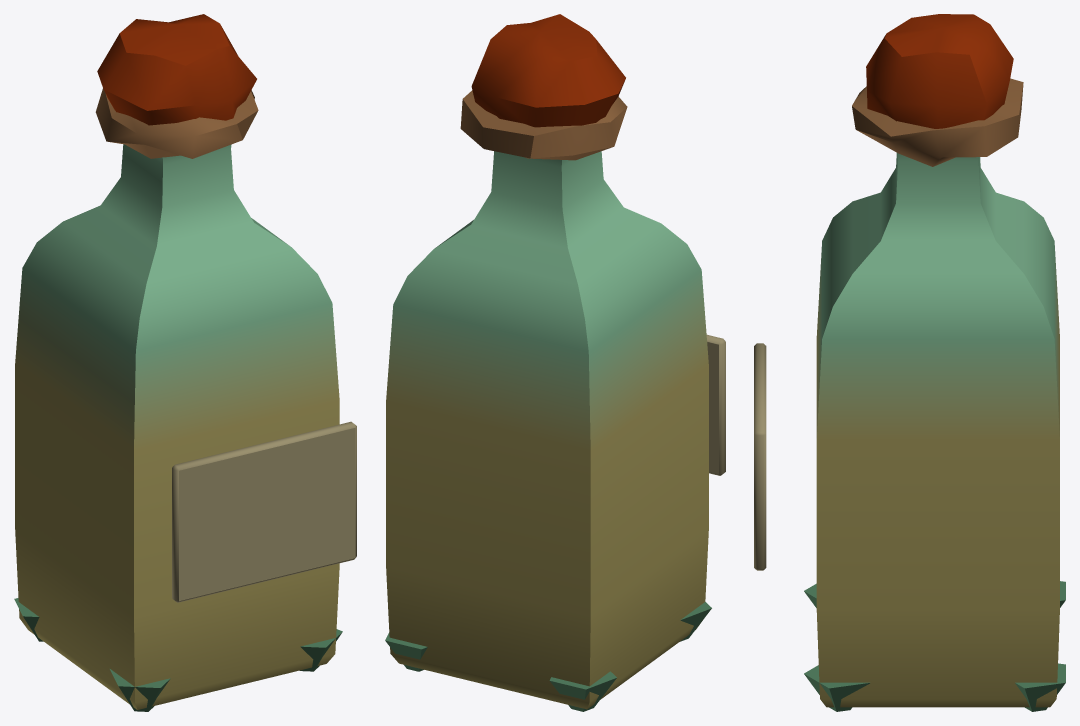
File: Madde_Kezzap.fbx
The picture shows the model from 3 angles, left to right: view 1: azimuth 30°, elevation 25°; view 2: azimuth 150°, elevation 25°; view 3: azimuth 270°, elevation 25°; orthographic projection. The views are drawn at different scales.
Parts seen in each view (by area): view 1: Madde_Kezzap_Model; view 2: Madde_Kezzap_Model; view 3: Madde_Kezzap_Model.
Boxes of the visible parts, <box> form: Madde_Kezzap_Model: <box>14,14,356,711</box>; Madde_Kezzap_Model: <box>385,14,725,711</box>; Madde_Kezzap_Model: <box>754,14,1065,711</box>.
Size of the model in its own units: 0.0735 by 0.1954 by 0.0863.
